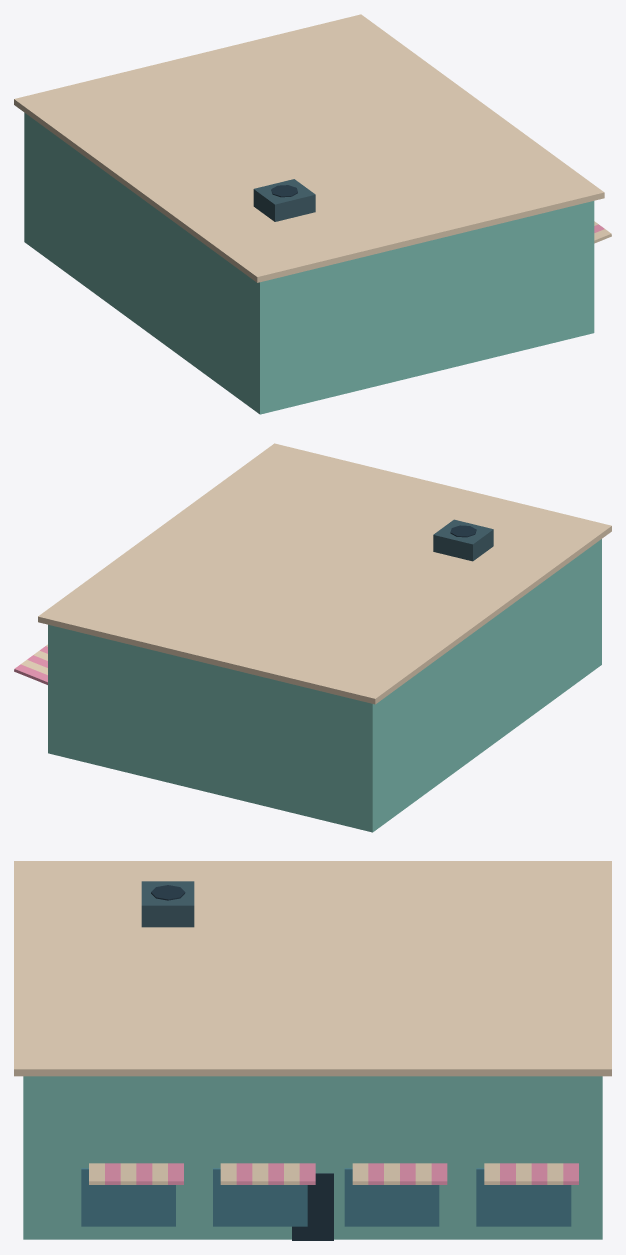
File: building-market.obj
3 views of the same model, one above another, from view 1: azimuth 30°, elevation 25°; view 2: azimuth 150°, elevation 25°; view 3: azimuth 270°, elevation 25° (orthographic). The views are drawn at different scales.
Visible parts, largest first — view 1: building-market; view 2: building-market; view 3: building-market.
Boxes of the visible parts, box(x1,y1,x2,y2) form: building-market: box(14, 14, 611, 414); building-market: box(14, 443, 611, 832); building-market: box(14, 861, 611, 1240).
Bounding box in the file's own units: 20.75 × 8.26 × 22.7.
